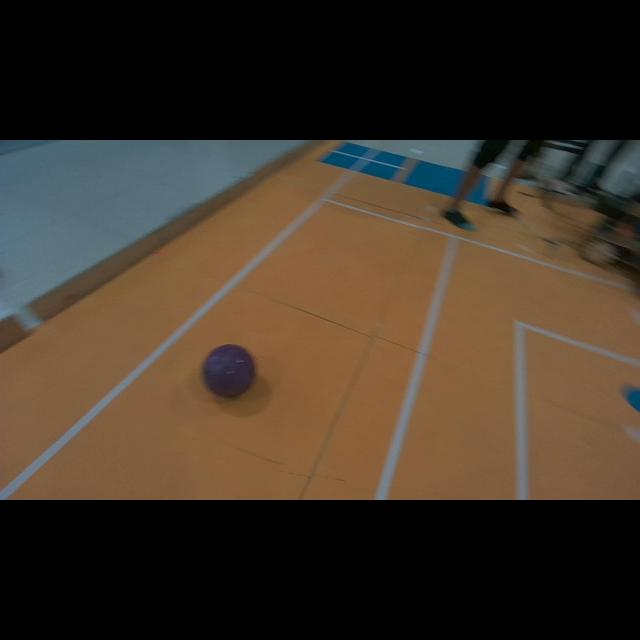P: (202, 345, 255, 397)
